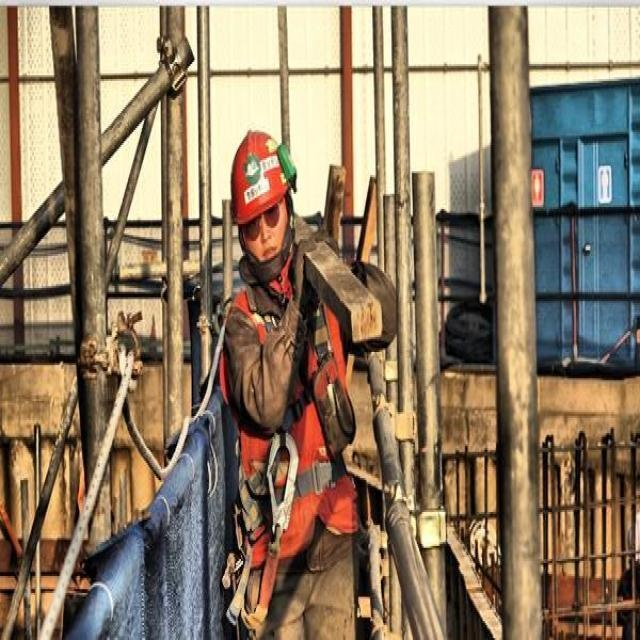Arnes_seguridad: (246, 282, 357, 544)
